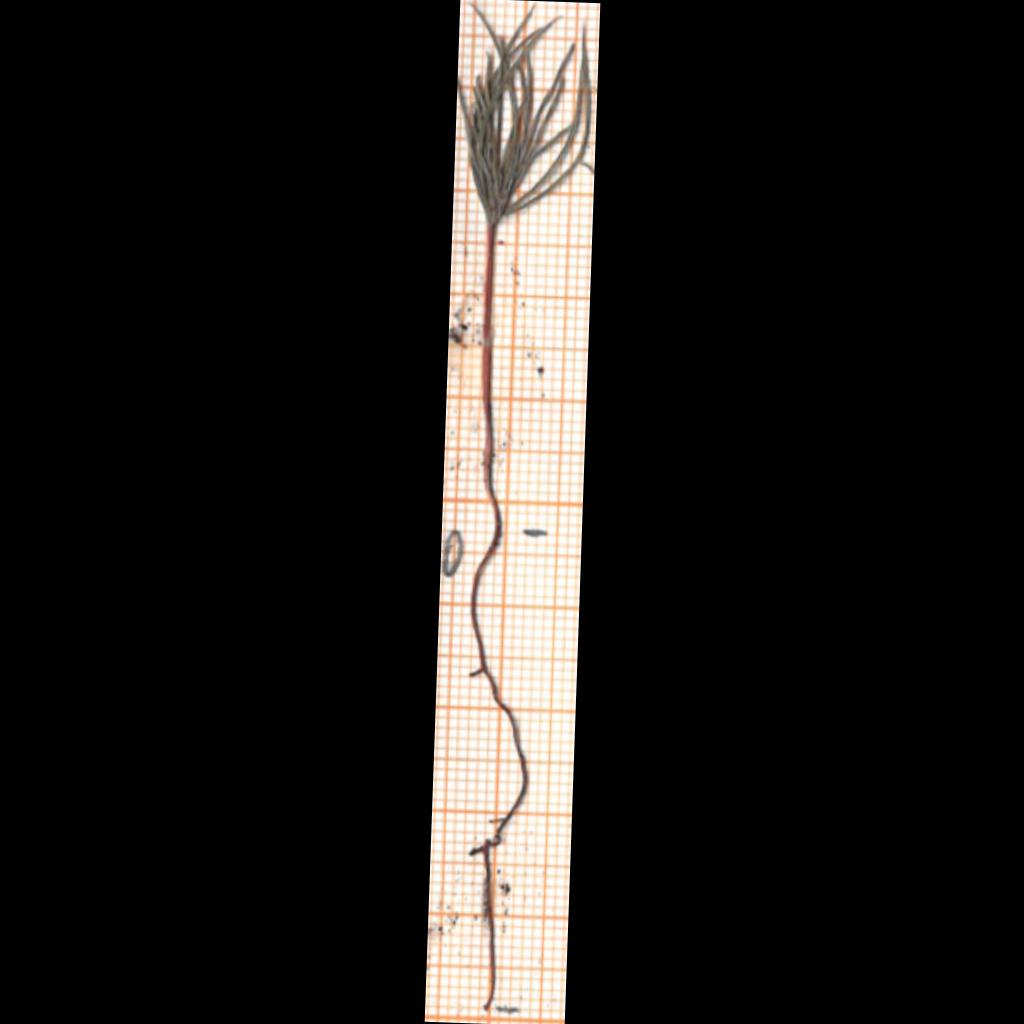flowerPinus: (457, 9, 591, 226)
rootPinus: (470, 545, 528, 1011)
stemPinus: (482, 224, 500, 534)
